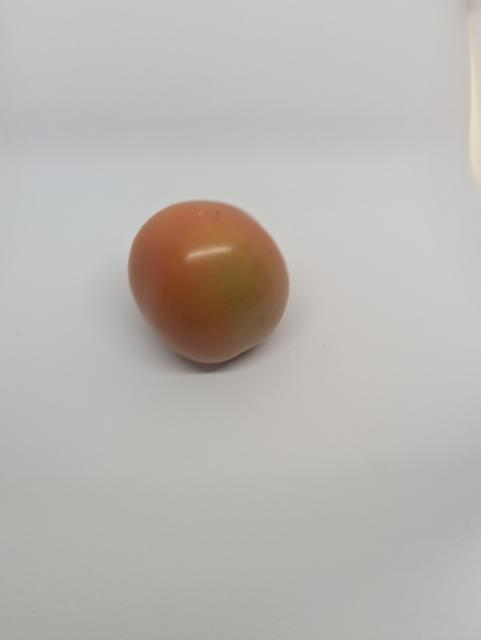turning: (125, 193, 300, 370)
